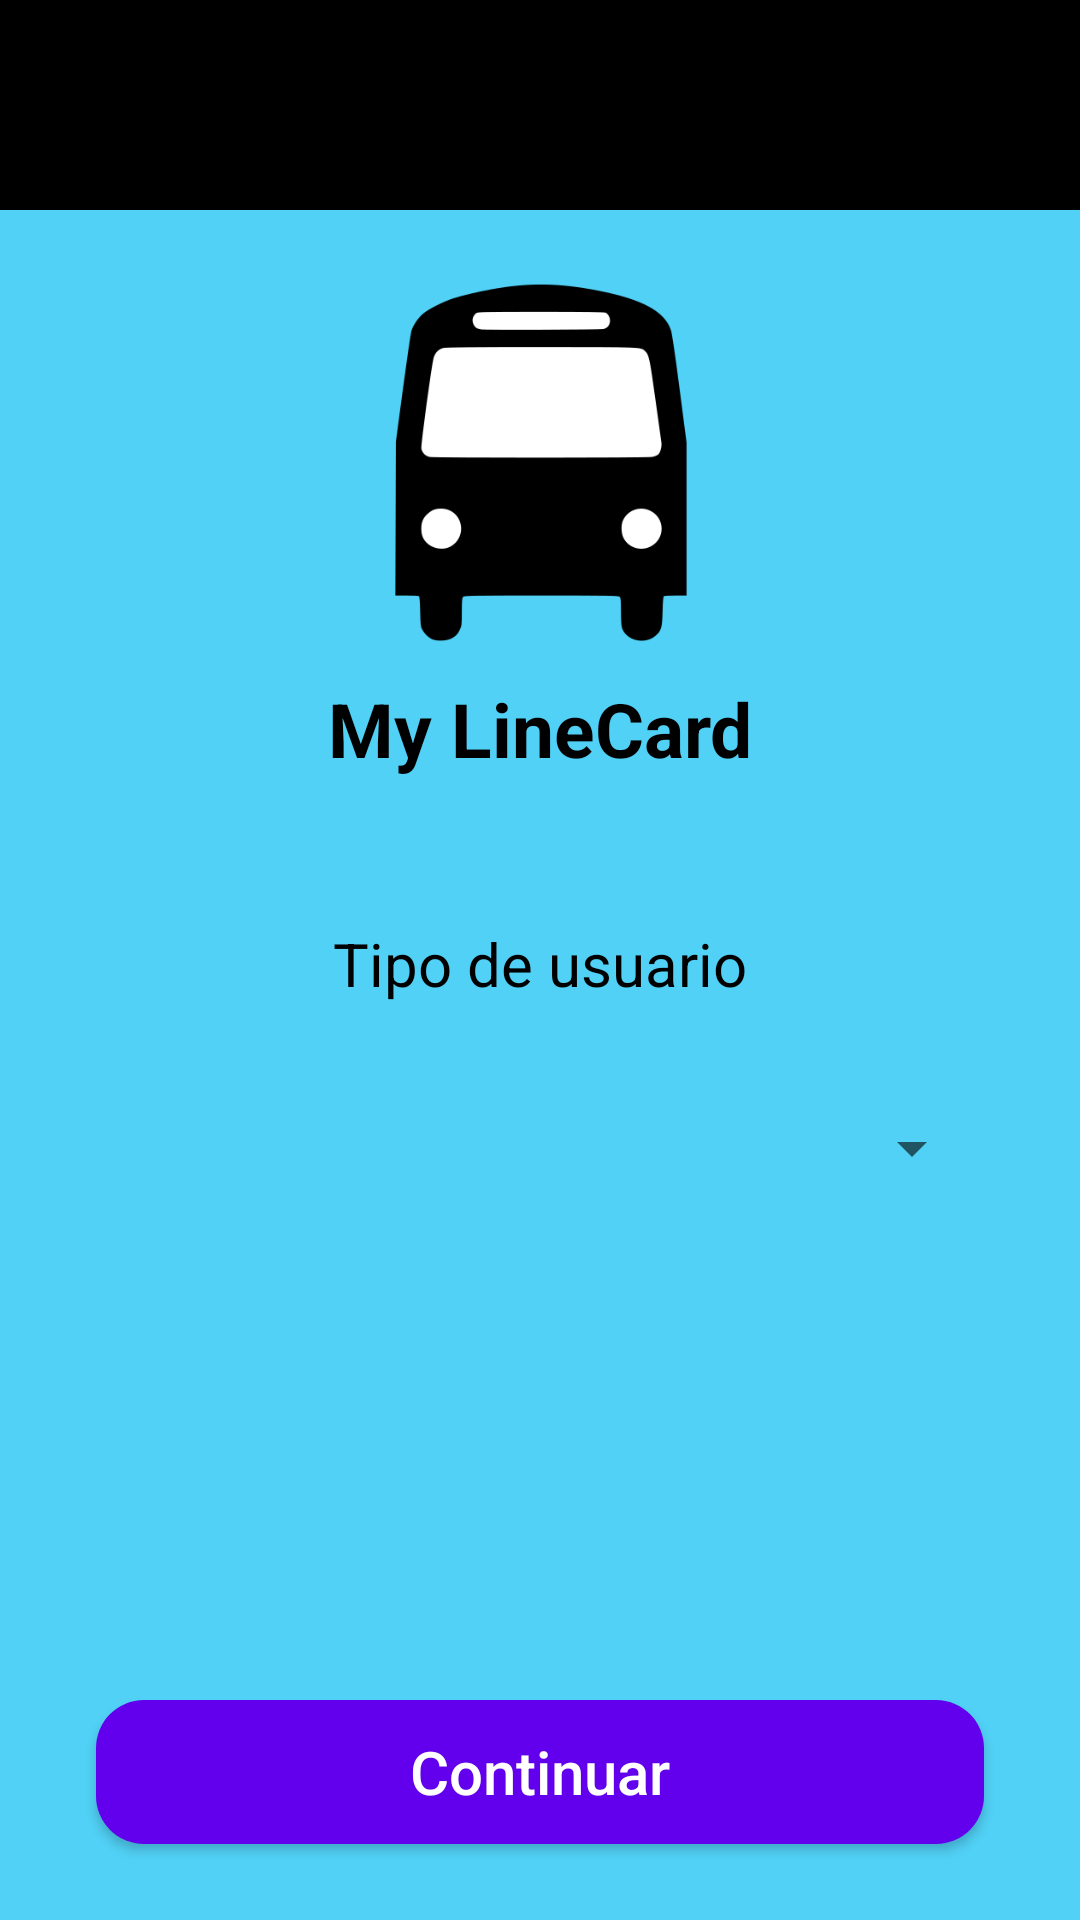

Icons on this 1080px x 1920px Android screen, each with the point to tap as point (x, y):
autobus: point (541, 462)
